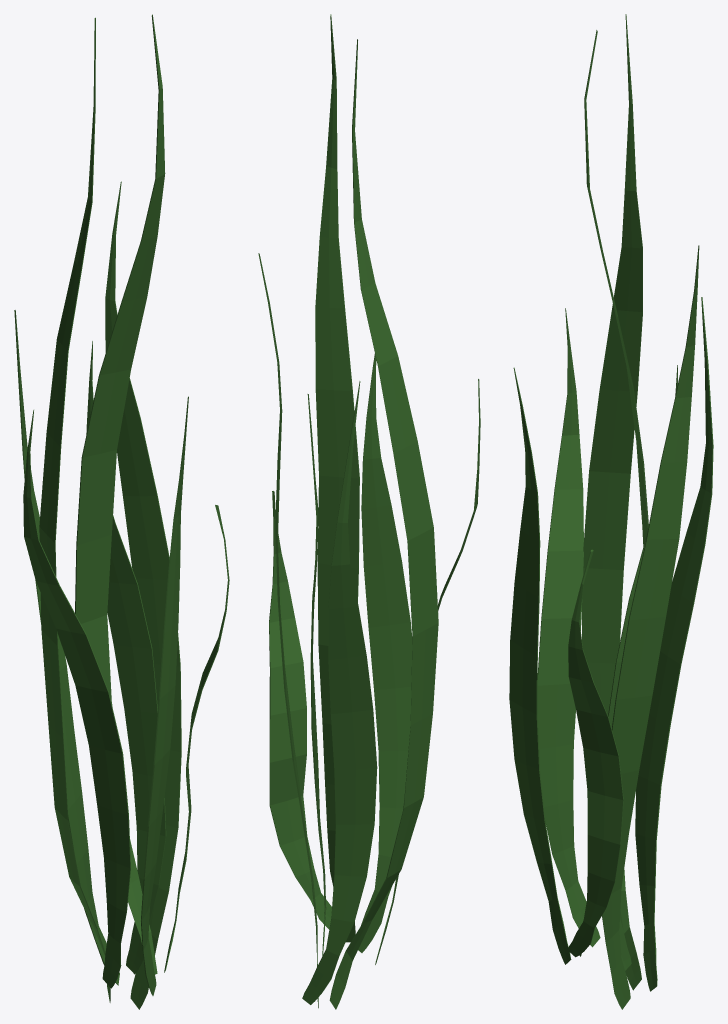
The model's file is Plant_Snake.fbx.
3 views of the same model, side by side, from view 1: azimuth 30°, elevation 25°; view 2: azimuth 150°, elevation 25°; view 3: azimuth 270°, elevation 25° (orthographic). The views are drawn at different scales.
Parts seen in each view (by area): view 1: Plant_A2; view 2: Plant_A2; view 3: Plant_A2.
Boxes of the visible parts, <box> form: Plant_A2: <box>14,14,229,1009</box>; Plant_A2: <box>258,14,480,1009</box>; Plant_A2: <box>509,14,713,1009</box>.
Size of the model in its own units: 29.94 by 139 by 26.19.
1 material, 1 textured.
